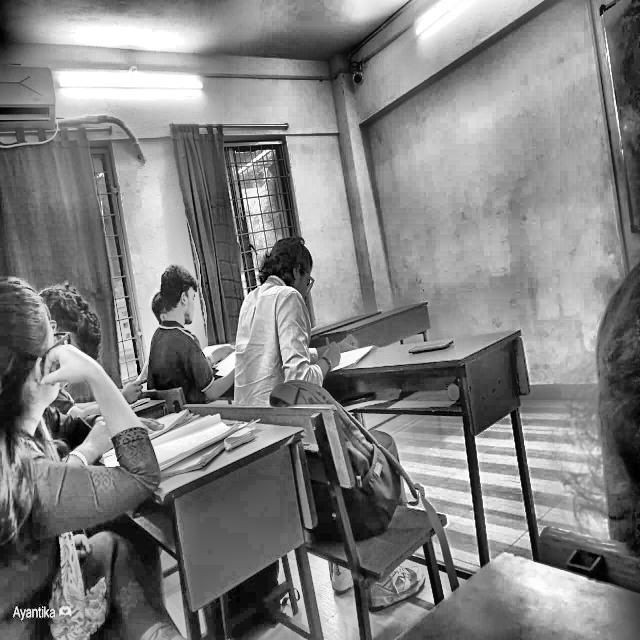Focus: (240, 199, 342, 388), (0, 294, 107, 408), (148, 252, 221, 356), (48, 276, 107, 362)
